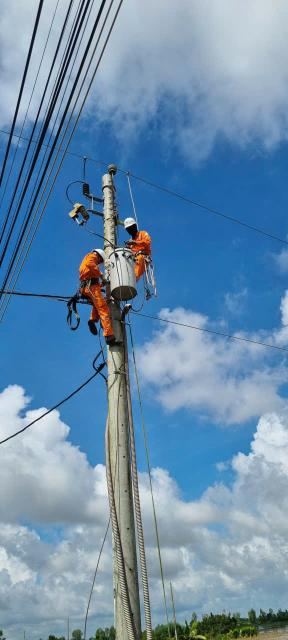gloves: (100, 274, 109, 286)
harness: (134, 249, 158, 259), (79, 277, 100, 288)
helmet: (90, 244, 108, 266), (122, 215, 140, 228)
shoes: (100, 332, 122, 348), (88, 315, 102, 339)
